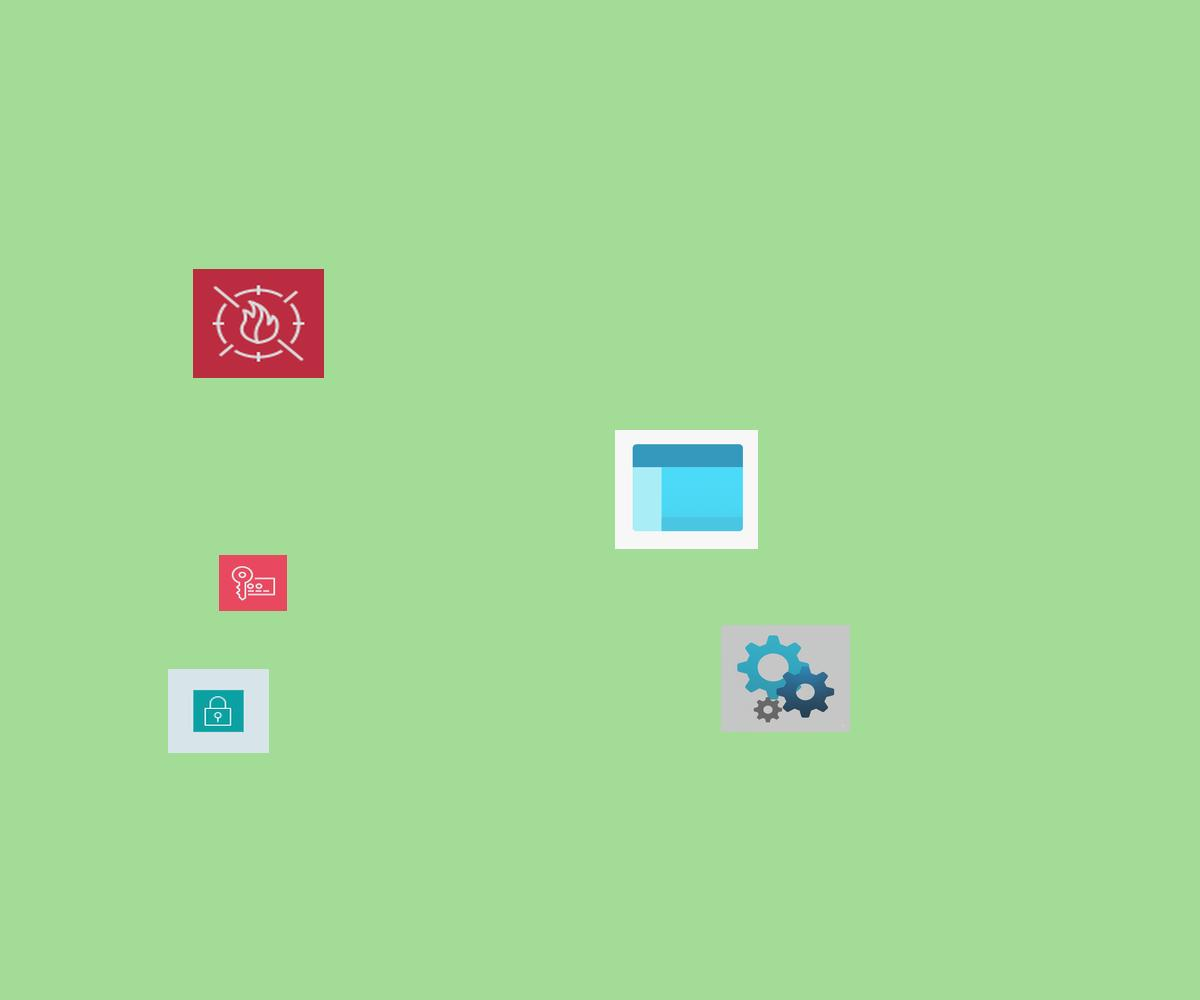AWS-Key-Management-Service: (219, 555, 287, 611)
AWS-Private-subnet: (168, 669, 269, 753)
AWS-WAF: (193, 269, 324, 378)
Azure_api: (721, 625, 850, 732)
Azure_management-portal: (615, 430, 758, 549)
